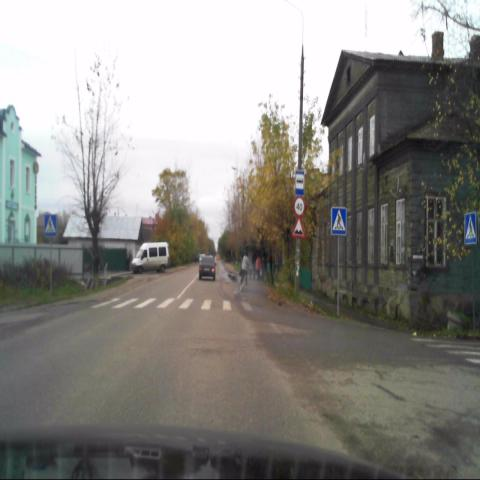1_16: (292, 217, 305, 237)
